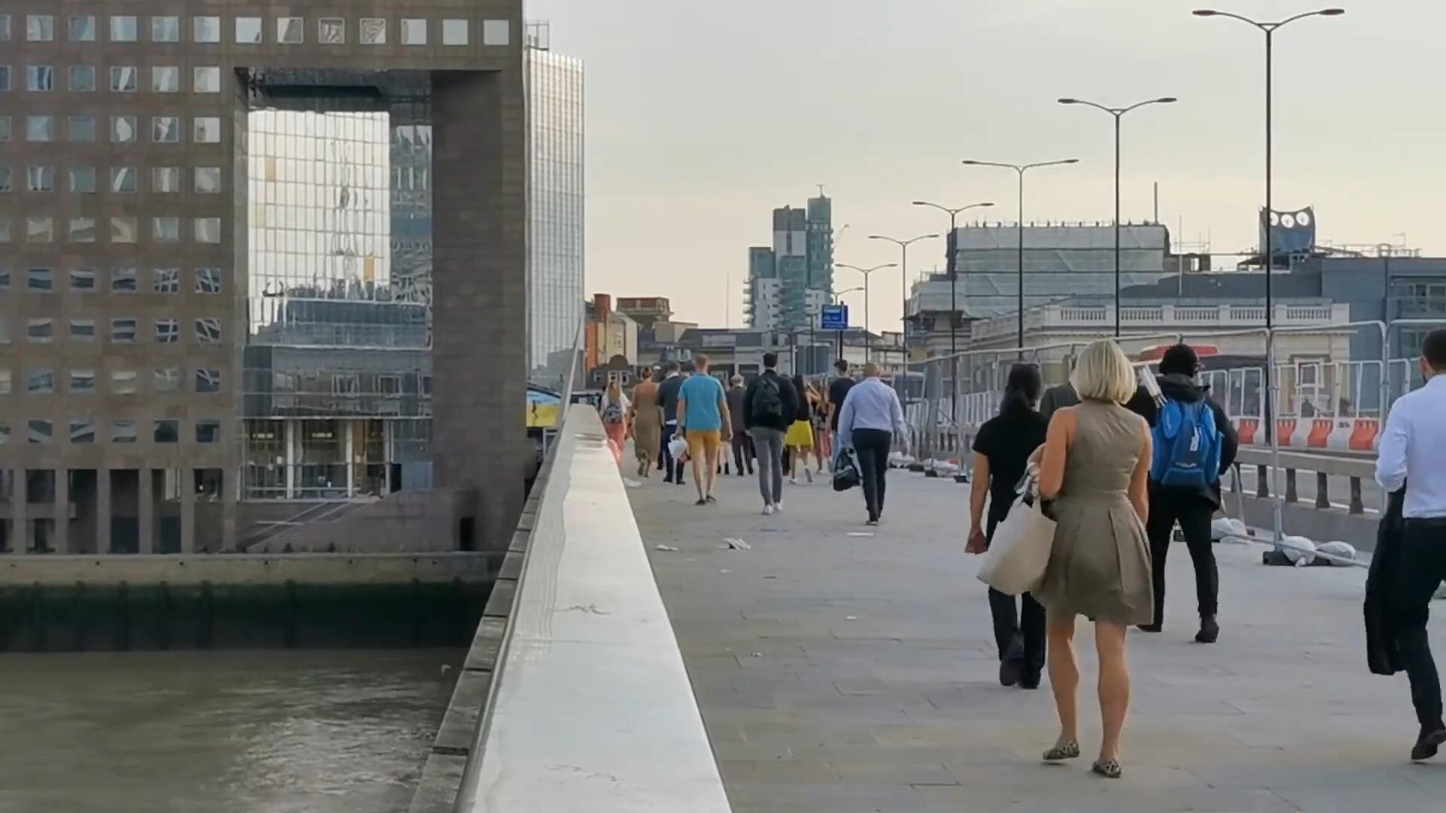no-helmet: (1069, 338, 1138, 407), (999, 363, 1042, 427), (1420, 329, 1446, 385), (1159, 343, 1199, 379), (863, 362, 880, 379), (763, 353, 778, 370), (695, 355, 708, 372), (641, 367, 653, 382)
